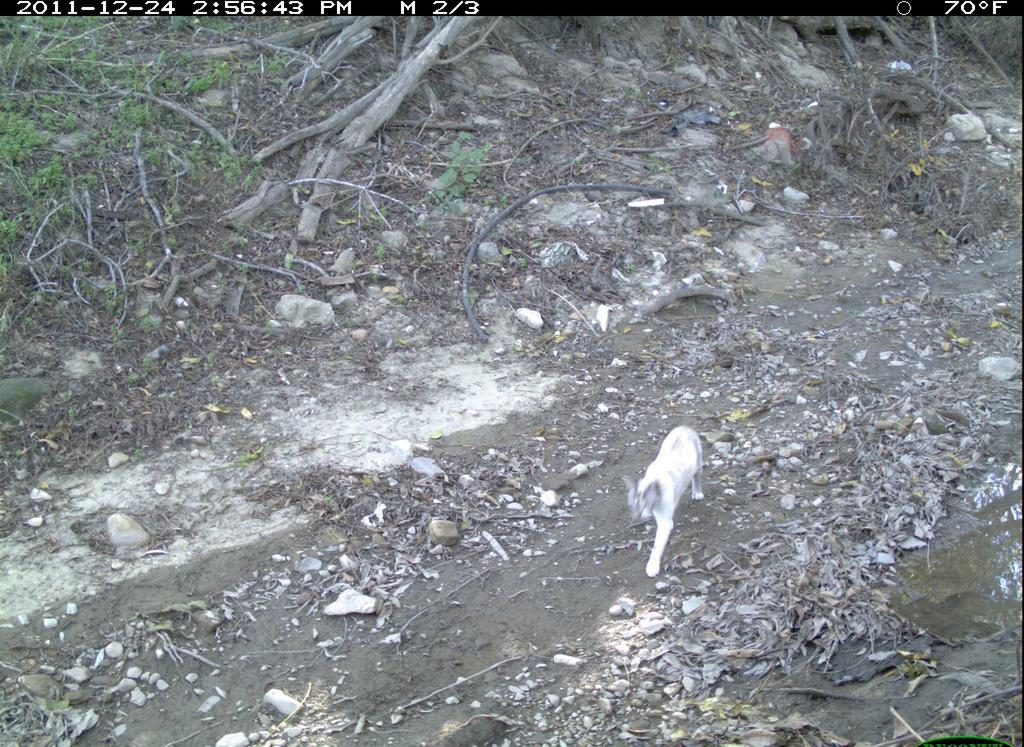cat: (620, 415, 708, 582)
